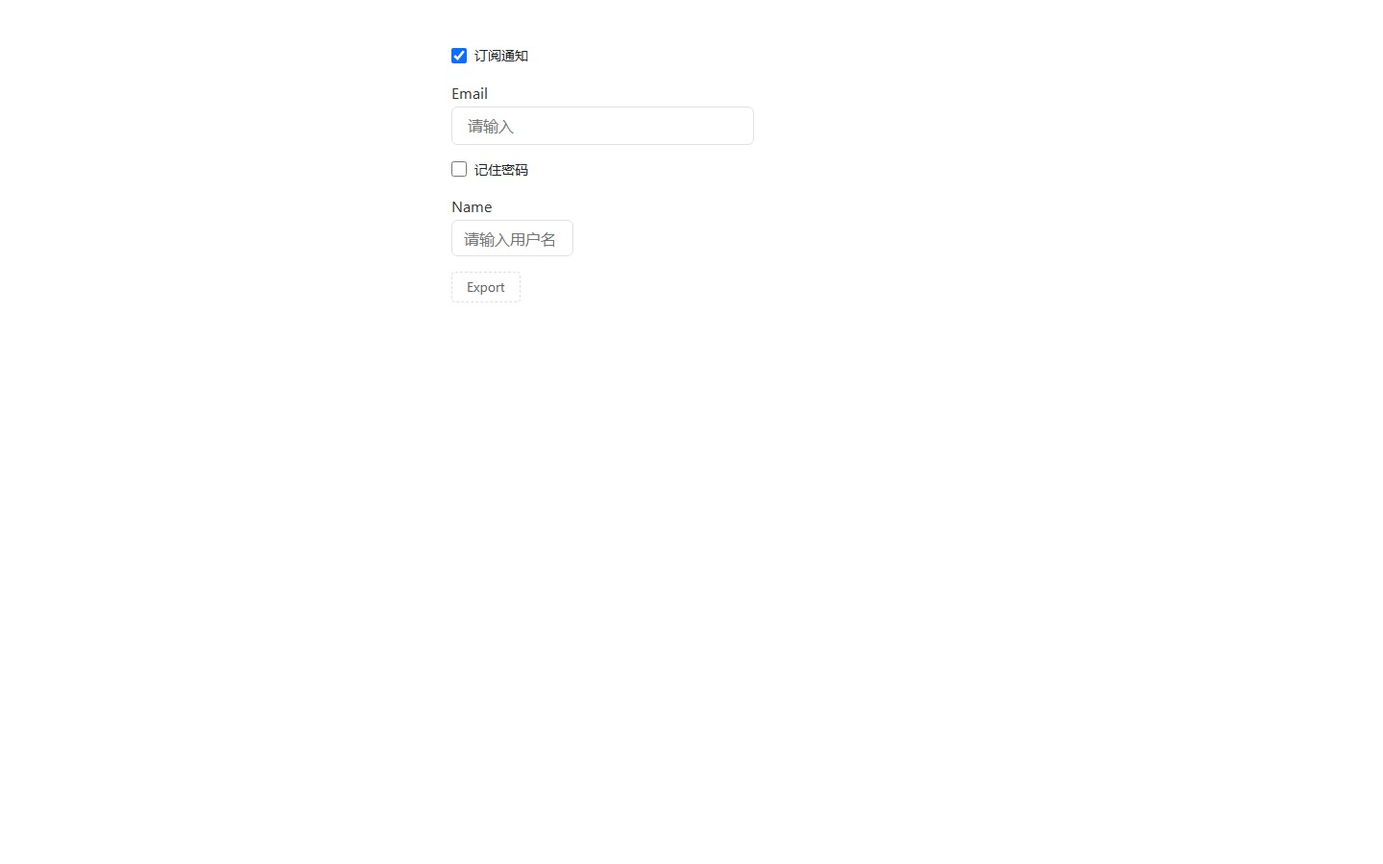button: (451, 272, 520, 302)
checkbox: (451, 161, 467, 177), (451, 48, 467, 63)
icon: (474, 46, 528, 64), (474, 160, 528, 178)
input: (451, 106, 754, 144), (451, 220, 573, 256)
radio: (451, 46, 528, 64), (451, 160, 528, 178)
